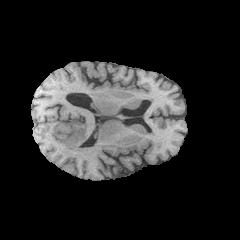glioma: (56, 123, 90, 159)
